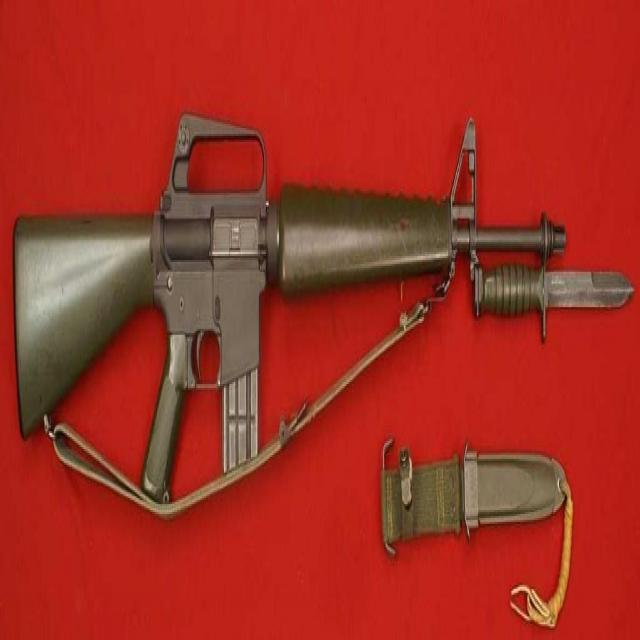m16: (6, 14, 582, 497)
